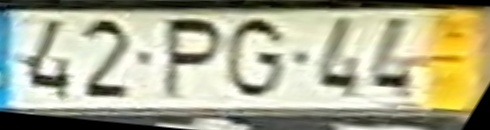2: (74, 15, 136, 100)
4: (22, 16, 78, 102), (364, 16, 420, 100), (312, 15, 364, 99)
G: (223, 15, 289, 100)
P: (156, 17, 230, 104)
